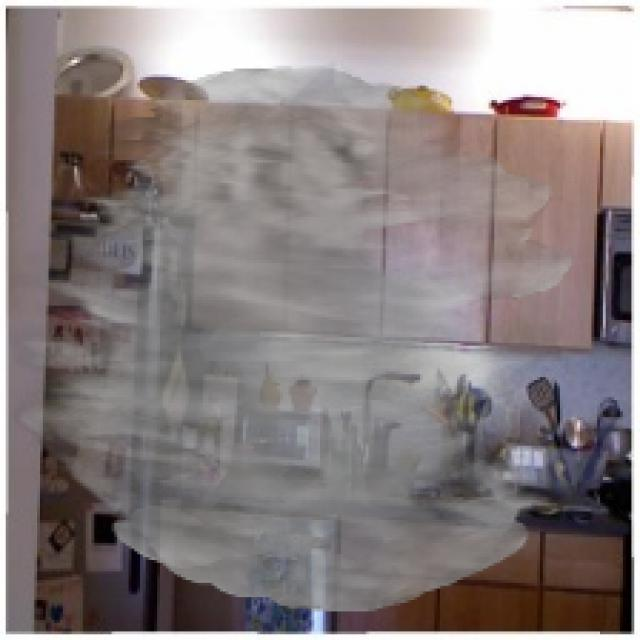smoke: (9, 66, 574, 611)
